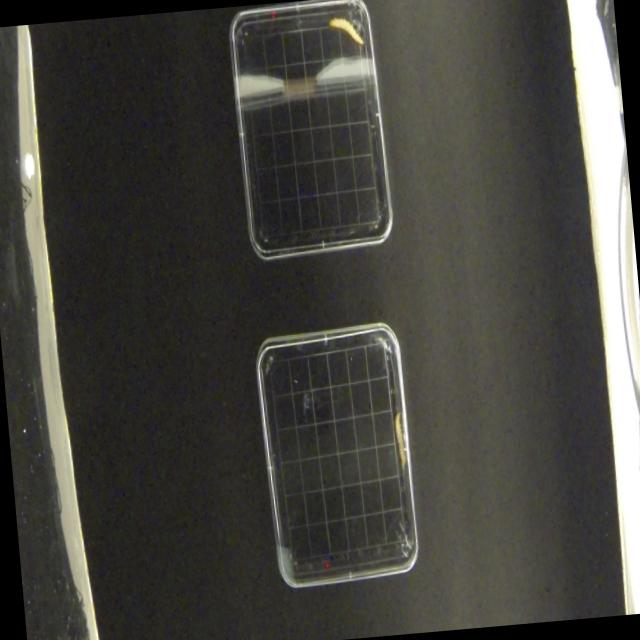larva: (328, 13, 364, 48), (392, 411, 408, 474)
